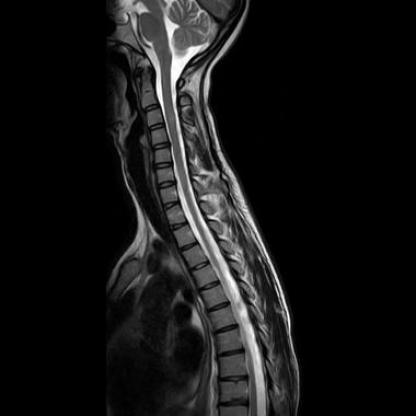Disc Bulgerotation: (153, 139, 171, 153)
